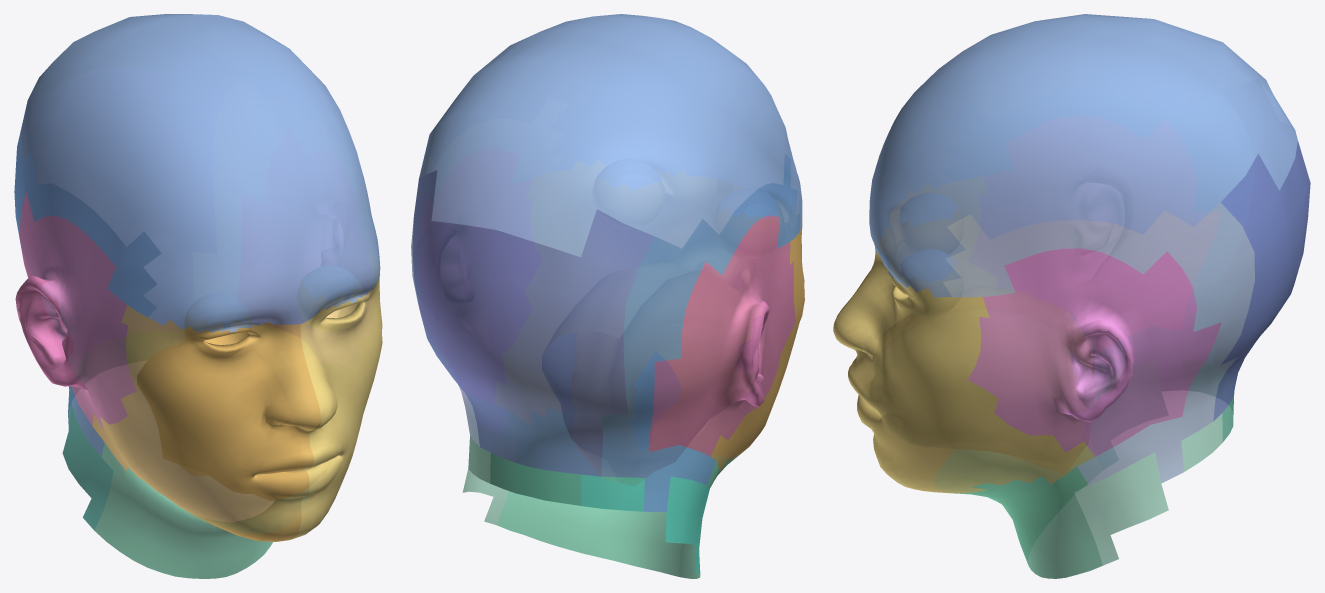
Rendered from neutro_body_v1_head_neck_interaction.glb.
The picture shows the model from 3 angles, left to right: view 1: azimuth 30°, elevation 25°; view 2: azimuth 150°, elevation 25°; view 3: azimuth 270°, elevation 25°; orthographic projection. The views are drawn at different scales.
Visible parts, largest first — view 1: zone_head_top, zone_face_right, zone_right_ear, zone_face_left, zone_neck_front, zone_head_right_side, zone_neck_right; view 2: zone_head_top, zone_head_back, zone_right_ear, zone_head_right_side, zone_neck_front, zone_neck_right, zone_face_right, zone_neck_back, zone_neck_left, zone_head_left_side; view 3: zone_head_top, zone_left_ear, zone_face_left, zone_head_left_side, zone_head_back, zone_neck_front, zone_neck_left.
Part boxes in pixels (x1,y1,x2,y2): zone_head_top: (21, 14, 380, 332); zone_face_right: (92, 305, 320, 541); zone_right_ear: (15, 192, 136, 430); zone_face_left: (290, 269, 382, 538); zone_neck_front: (94, 443, 272, 578); zone_head_right_side: (14, 131, 161, 456); zone_neck_right: (62, 402, 113, 530); zone_head_top: (419, 14, 802, 257); zone_head_back: (412, 170, 654, 476); zone_right_ear: (648, 215, 795, 456); zone_head_right_side: (601, 153, 800, 512); zone_neck_front: (497, 453, 739, 578); zone_neck_right: (581, 474, 709, 574); zone_face_right: (710, 227, 804, 471); zone_neck_back: (490, 453, 581, 505); zone_neck_left: (462, 436, 508, 524); zone_head_left_side: (411, 217, 479, 446); zone_head_top: (869, 14, 1297, 297); zone_left_ear: (968, 248, 1221, 456); zone_face_left: (833, 247, 1094, 493); zone_head_left_side: (943, 202, 1254, 484); zone_head_back: (1213, 141, 1310, 421); zone_neck_front: (954, 466, 1102, 578); zone_neck_left: (1074, 413, 1222, 565).
Size of the model in its own units: 0.1726 by 0.2631 by 0.215.
